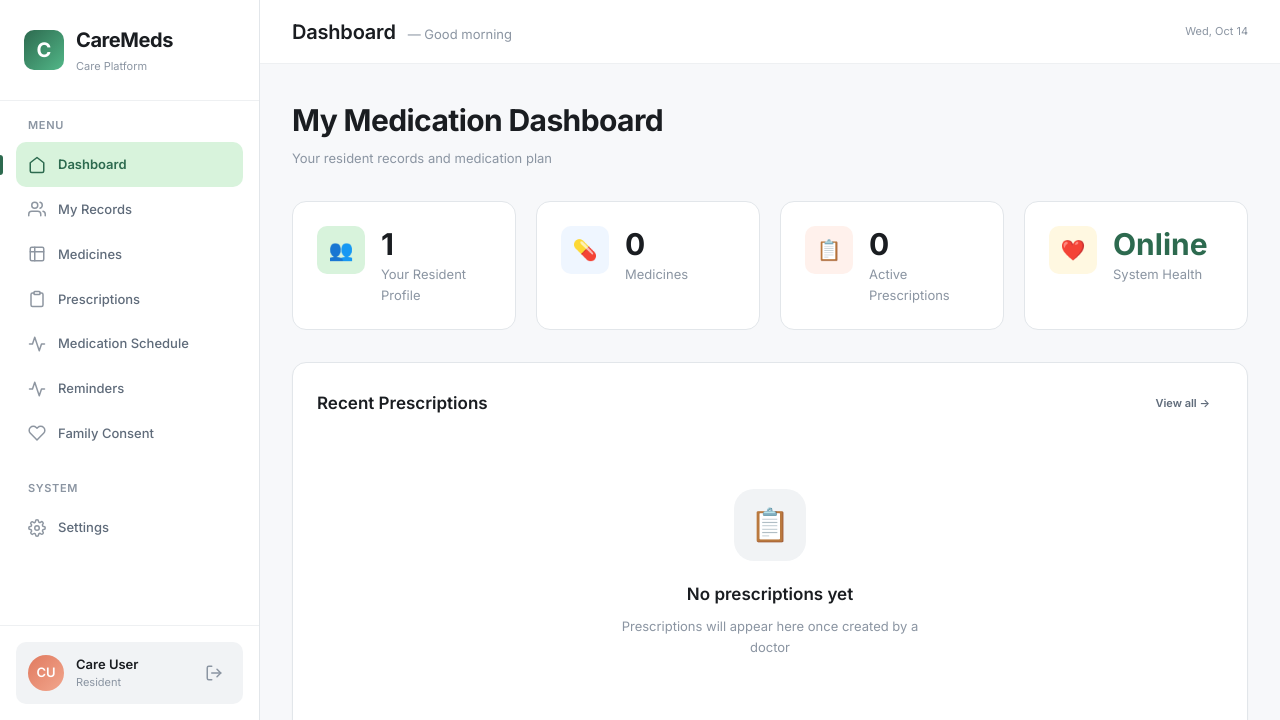
Test case: CareMeds role-based application surfaces › requires explicit family scopes before a resident can approve access
Expected: the heading "My Medication Dashboard" is shown, [292, 96, 663, 144]
Click the button "Family Consent" at [130, 433], box [16, 411, 243, 456]
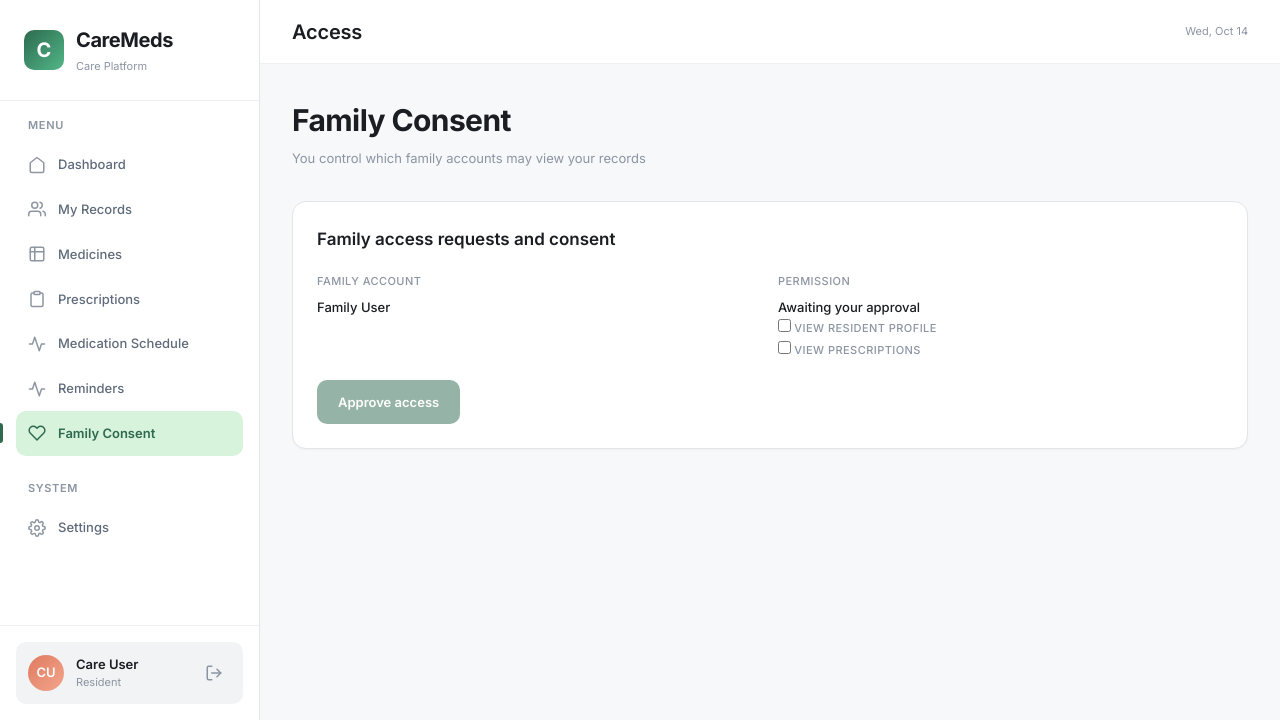
Result: the text "Family User" is shown at [317, 299, 390, 315]
Result: the button "Approve access" is disabled at [317, 380, 460, 424]
Click the checkbox labelled "View prescriptions" at [784, 348], box [778, 341, 791, 354]
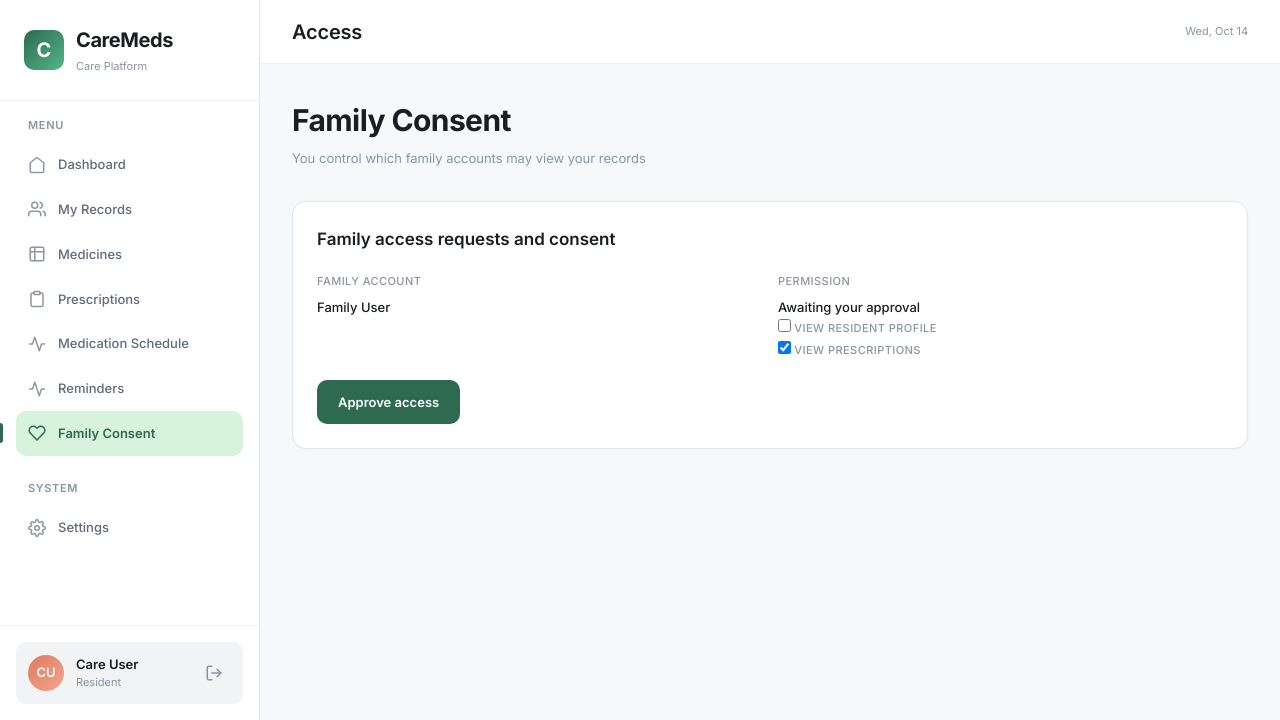
Result: the button "Approve access" is enabled
Click the button "Approve access" at [389, 402], box [317, 380, 460, 424]
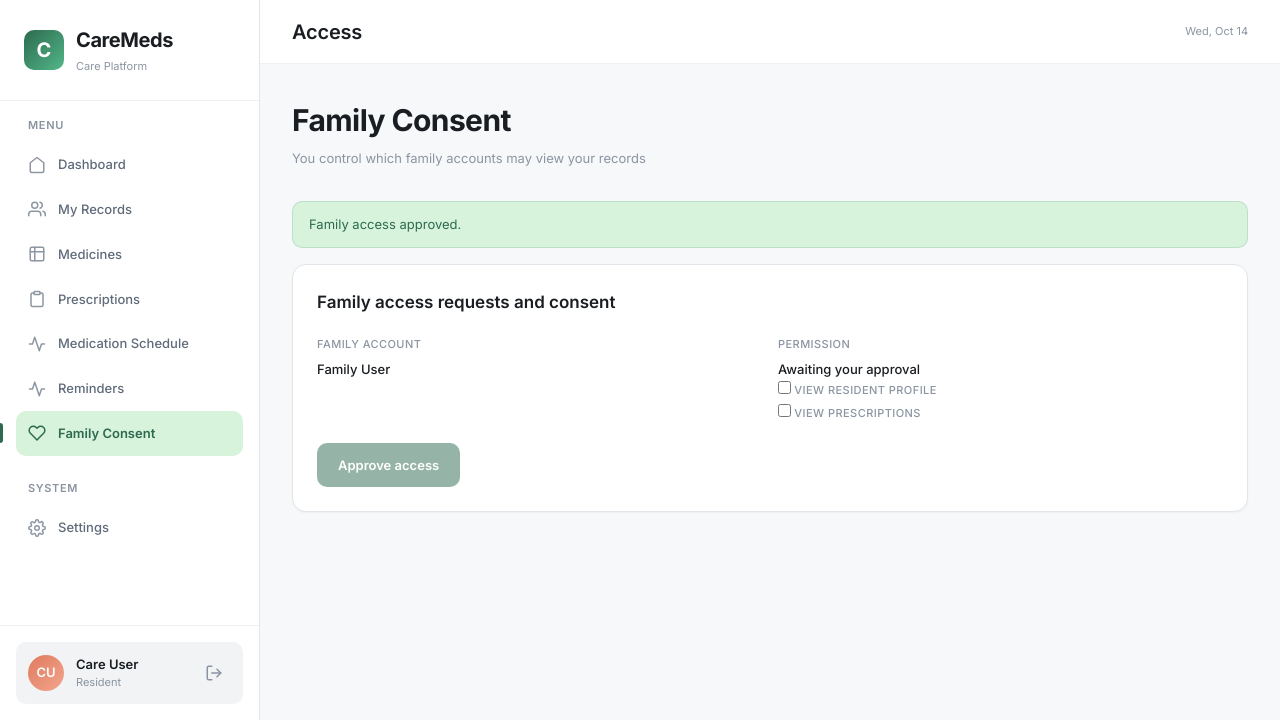
Result: the text "Family access approved." is shown at [292, 201, 1248, 248]
